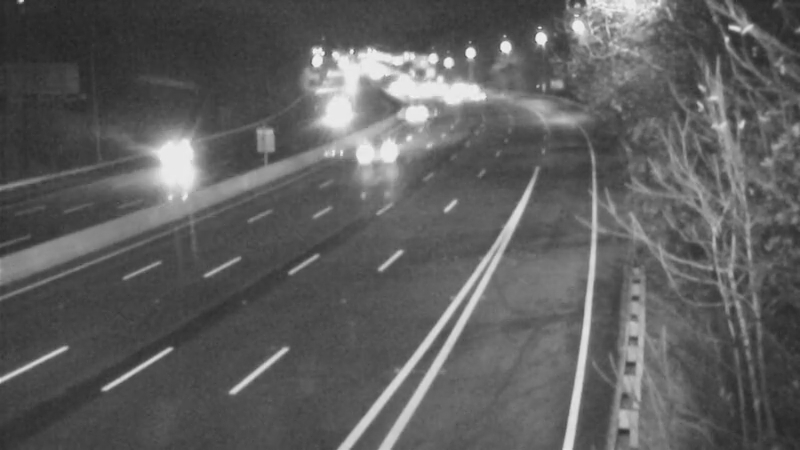vehicle: (133, 114, 213, 194), (388, 85, 438, 135), (358, 124, 408, 174), (312, 82, 362, 132)
